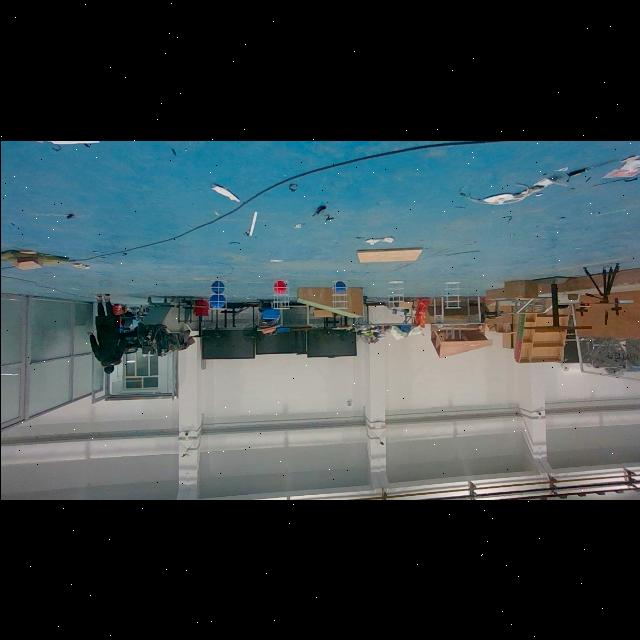B: (208, 294, 225, 308), (208, 282, 225, 294), (332, 282, 346, 292)
R: (272, 282, 286, 294)
S: (204, 276, 228, 312), (384, 278, 408, 310), (328, 278, 349, 312), (440, 278, 462, 310), (270, 278, 290, 312)
